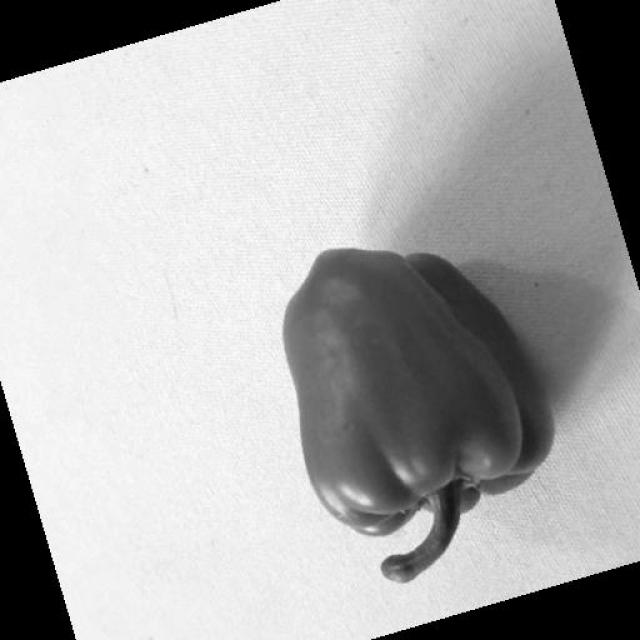Fresh_Capsicum: (252, 228, 542, 541)
